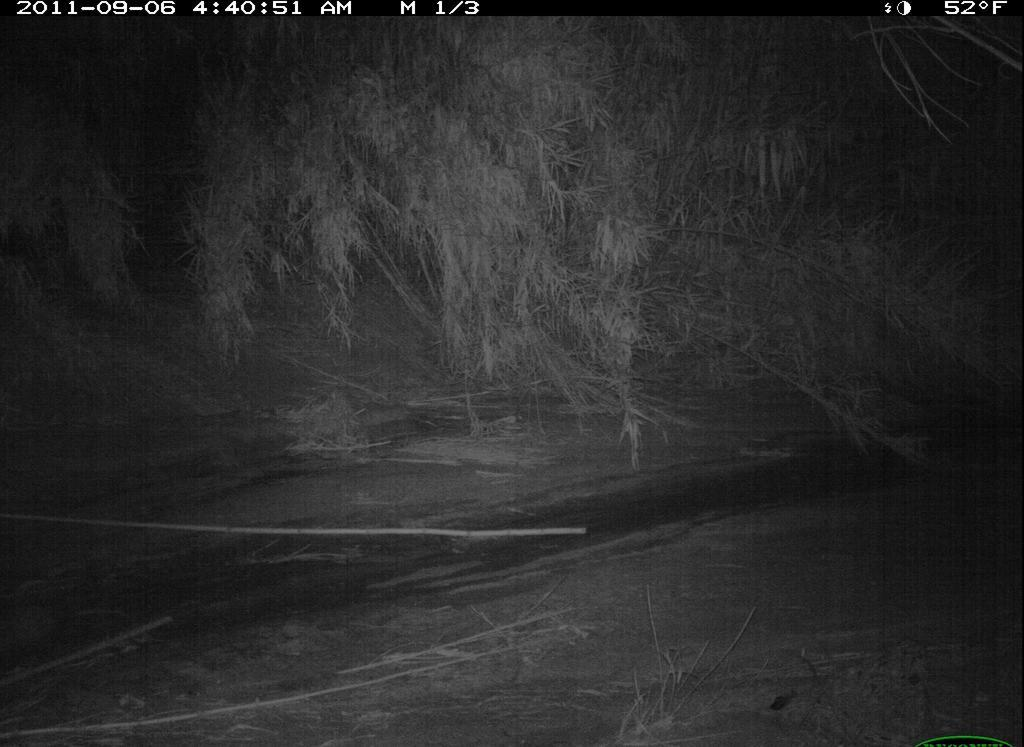opossum: (1, 585, 158, 685)
